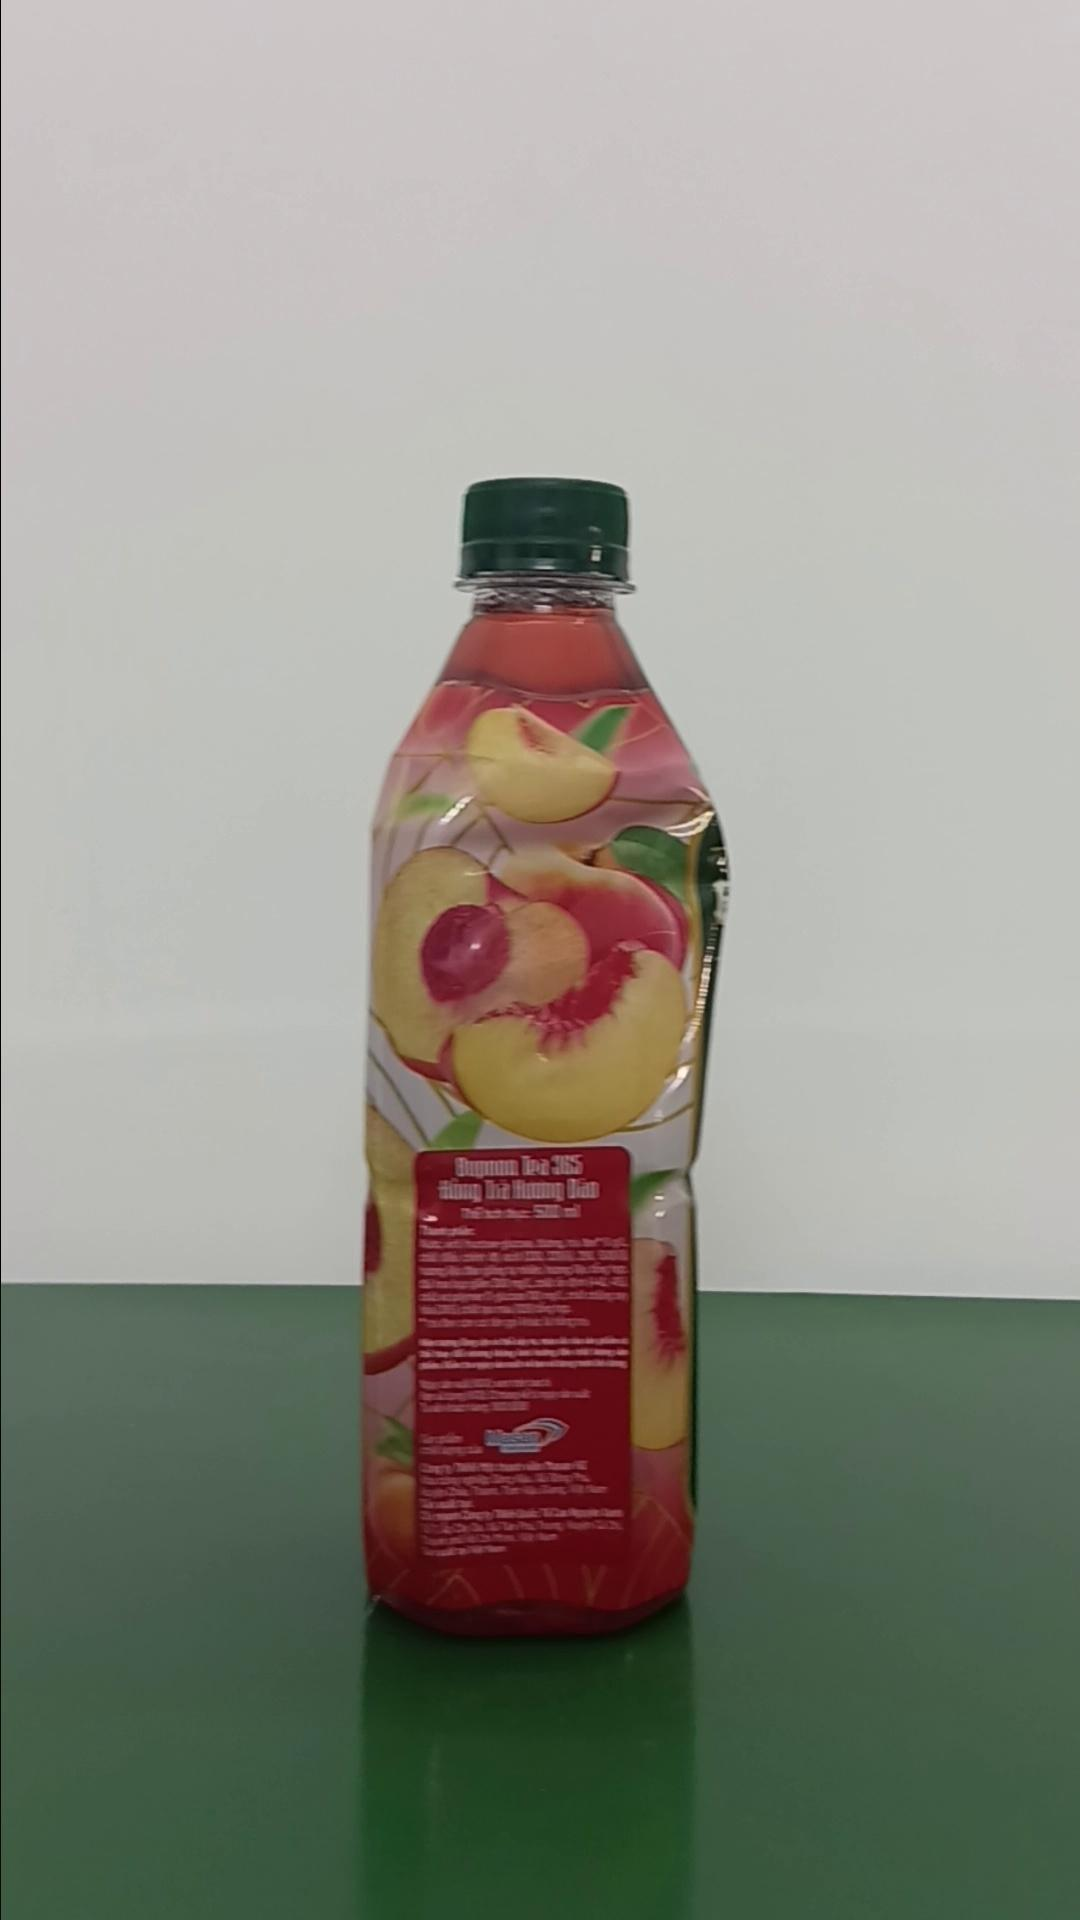loi meo sp: (357, 473, 731, 1636)
